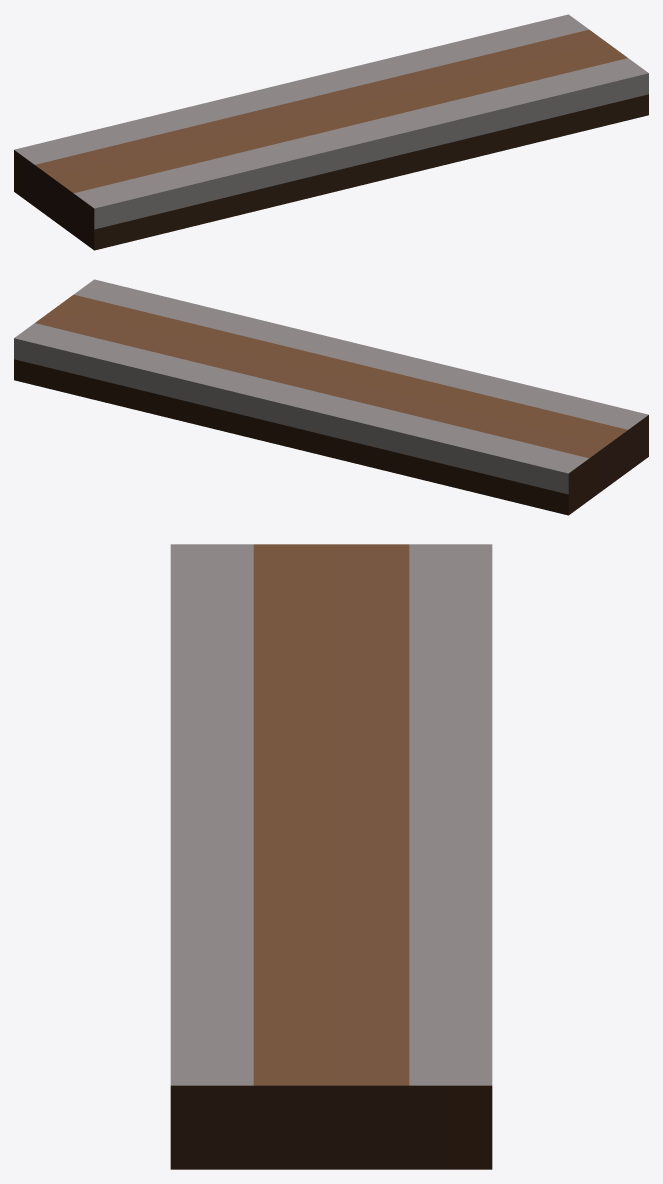
The model's file is SkateboardFlatBox.glb.
3 renders of one model, top to bottom at view 1: azimuth 30°, elevation 25°; view 2: azimuth 150°, elevation 25°; view 3: azimuth 270°, elevation 25°, orthographic. The views are drawn at different scales.
Parts seen in each view (by area): view 1: SkateboardFlatBox; view 2: SkateboardFlatBox; view 3: SkateboardFlatBox.
Boxes of the visible parts, x1,y1,x2,y2 form: SkateboardFlatBox: (14,14,648,250); SkateboardFlatBox: (14,279,648,515); SkateboardFlatBox: (170,544,492,1169).
Bounding box in the file's own units: 8 × 0.5791 × 2.01.
Materials: 1 (1 with a texture image).
